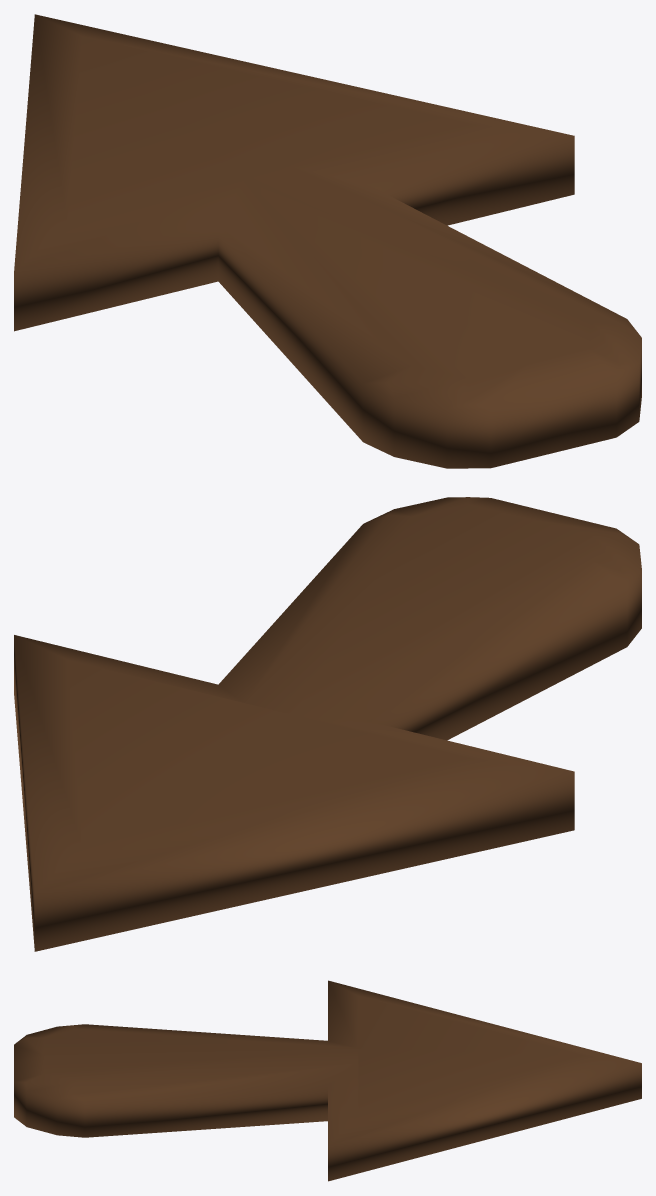
Rendered from Arrow.fbx.
The picture shows the model from 3 angles, top to bottom: view 1: azimuth 30°, elevation 25°; view 2: azimuth 150°, elevation 25°; view 3: azimuth 270°, elevation 25°; orthographic projection. The views are drawn at different scales.
Visible parts, largest first — view 1: Plane; view 2: Plane; view 3: Plane.
Boxes of the visible parts, bbox=[...] form: Plane: bbox=[14, 14, 641, 468]; Plane: bbox=[14, 497, 641, 951]; Plane: bbox=[14, 980, 641, 1181].
Bounding box in the file's own units: 125 × 17.04 × 200.
